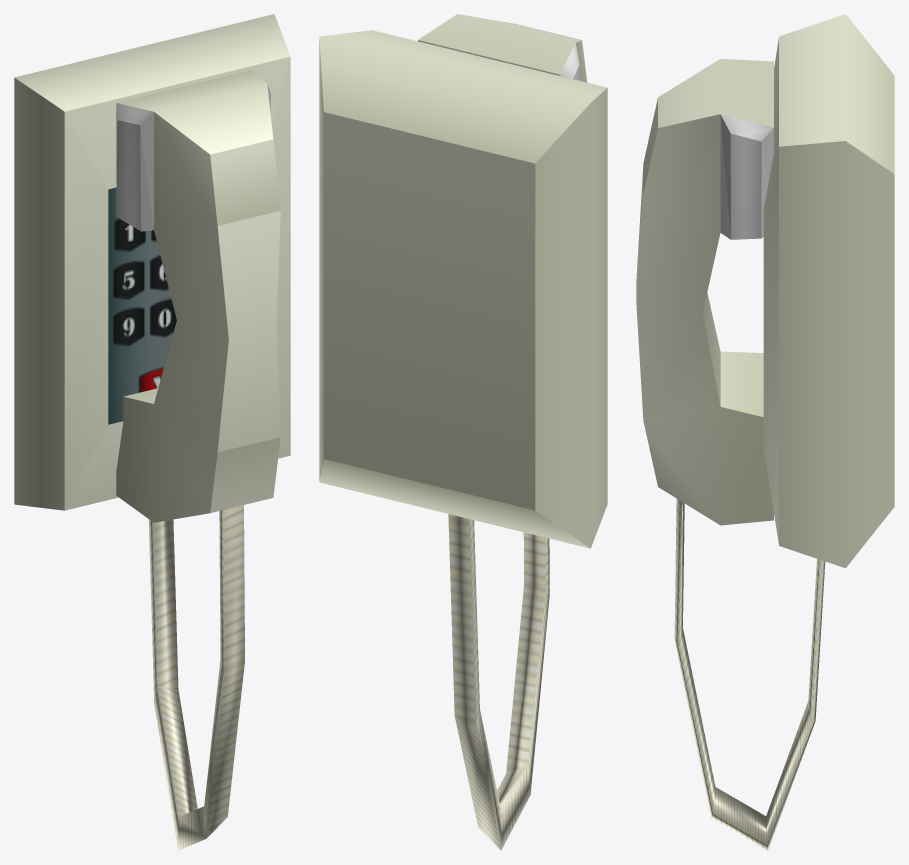
File: Wall_Phone_A.FBX
The picture shows the model from 3 angles, left to right: view 1: azimuth 30°, elevation 25°; view 2: azimuth 150°, elevation 25°; view 3: azimuth 270°, elevation 25°; orthographic projection. The views are drawn at different scales.
Visible parts, largest first — view 1: Wall_Phone; view 2: Wall_Phone; view 3: Wall_Phone.
Boxes of the visible parts, x1=… form: Wall_Phone: x1=14, y1=14, x2=290, y2=850; Wall_Phone: x1=319, y1=14, x2=607, y2=850; Wall_Phone: x1=636, y1=14, x2=894, y2=850.
Size of the model in its own units: 57.35 by 163 by 49.28.
